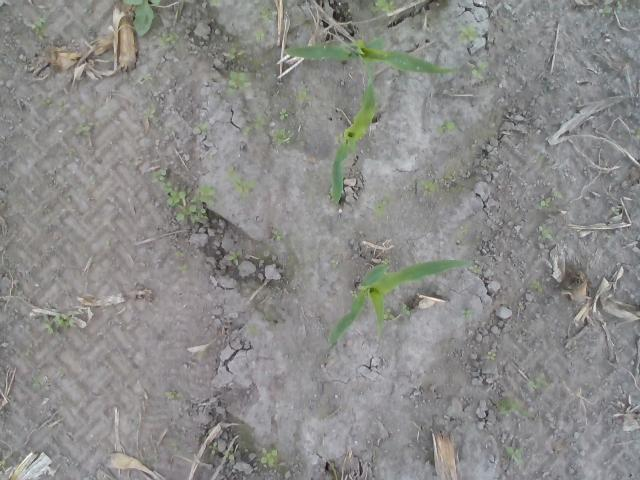Maize: (327, 258, 473, 342), (329, 61, 376, 205), (286, 40, 458, 76)
Weeds: (151, 166, 217, 224), (122, 0, 162, 37), (224, 164, 258, 196), (226, 70, 254, 97), (41, 312, 75, 334), (495, 399, 523, 417), (30, 18, 50, 41), (502, 445, 524, 465), (598, 0, 623, 17), (255, 446, 278, 464), (372, 193, 389, 217), (458, 23, 478, 42), (535, 223, 555, 241), (227, 46, 247, 63), (371, 0, 396, 13), (225, 248, 242, 266), (256, 6, 274, 23), (436, 119, 456, 134), (527, 373, 545, 389), (160, 31, 178, 47), (272, 128, 289, 144), (471, 63, 487, 80), (78, 120, 95, 136), (163, 390, 184, 402), (422, 178, 439, 192), (535, 194, 552, 208), (254, 110, 266, 128), (271, 228, 286, 242), (34, 96, 50, 109), (530, 279, 544, 293), (496, 18, 513, 29), (459, 308, 474, 320), (30, 376, 42, 391), (398, 304, 412, 316), (382, 308, 396, 320), (206, 441, 218, 455), (192, 122, 208, 132), (144, 107, 156, 120), (295, 89, 308, 101), (326, 258, 340, 269), (255, 30, 268, 41), (629, 128, 640, 140), (246, 324, 259, 334), (240, 126, 253, 135), (224, 449, 234, 460), (278, 110, 288, 121), (335, 132, 344, 144), (24, 348, 34, 358), (486, 350, 496, 360), (446, 167, 455, 178), (143, 72, 154, 81), (469, 265, 481, 273), (179, 264, 189, 273), (534, 152, 544, 161), (209, 0, 224, 6), (176, 249, 184, 259), (103, 239, 111, 249), (382, 257, 392, 264), (350, 290, 358, 298), (0, 458, 5, 468)
